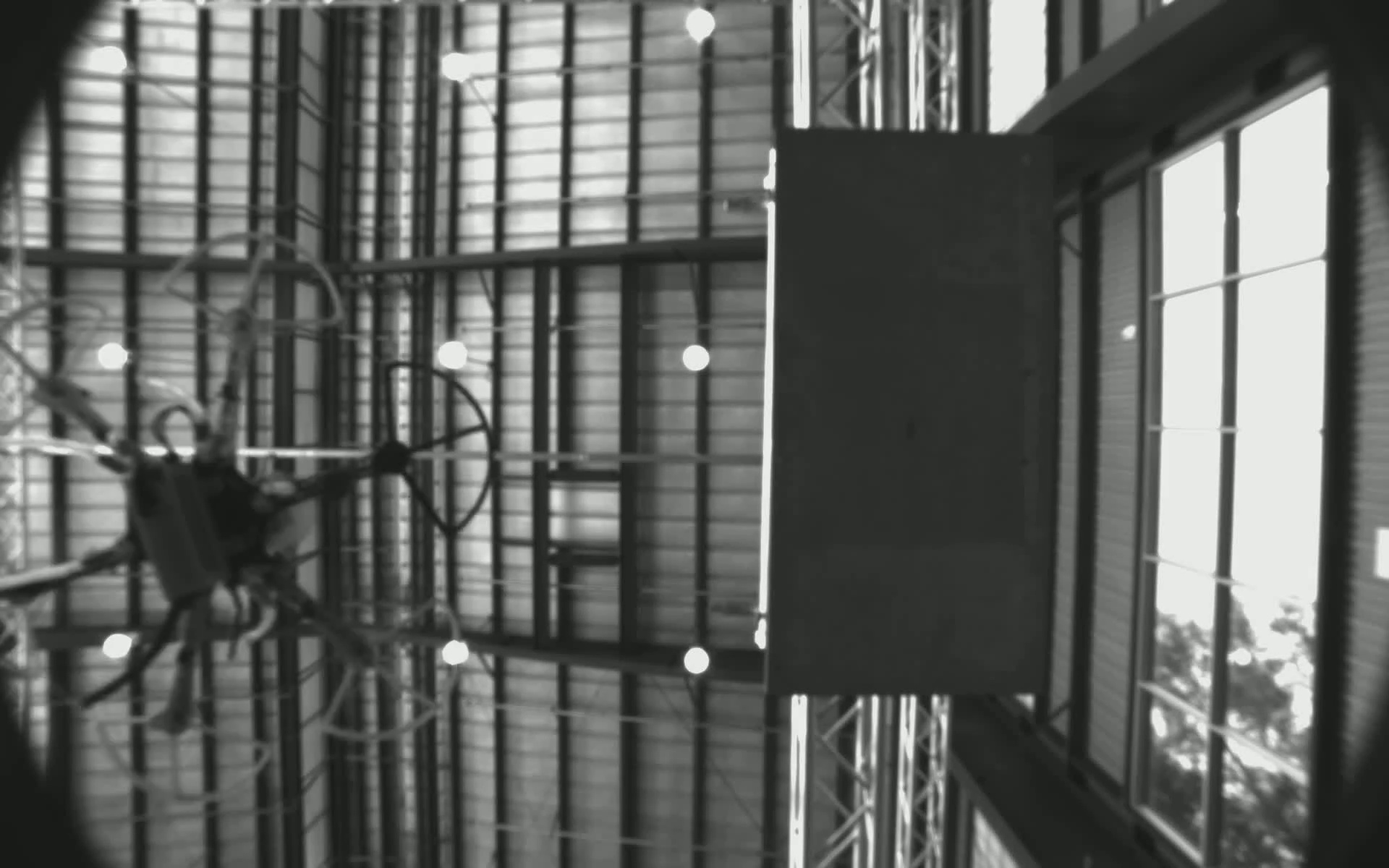drone: (0, 233, 501, 804)
